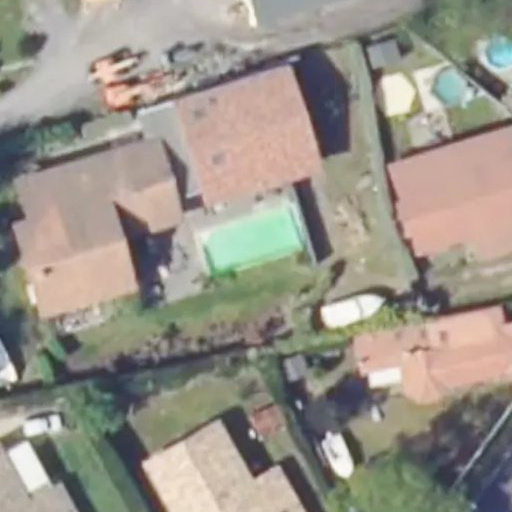pool: (195, 203, 305, 275), (429, 65, 472, 108), (481, 32, 512, 73)
